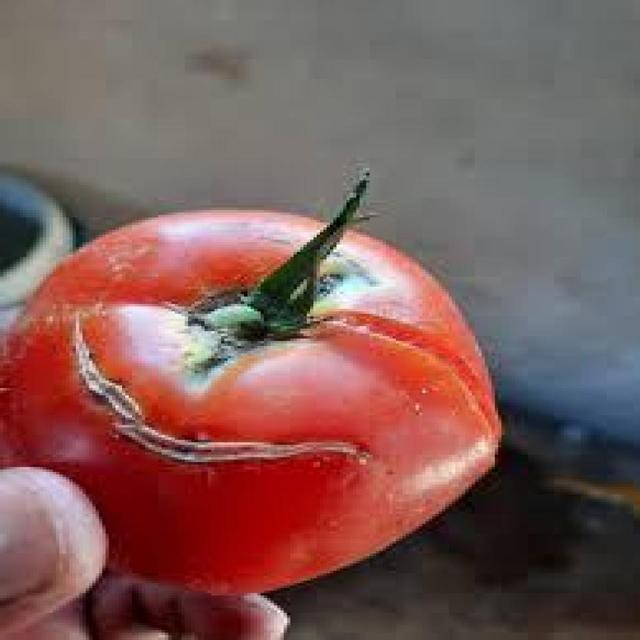Cracking Fruit: (23, 197, 269, 328)
